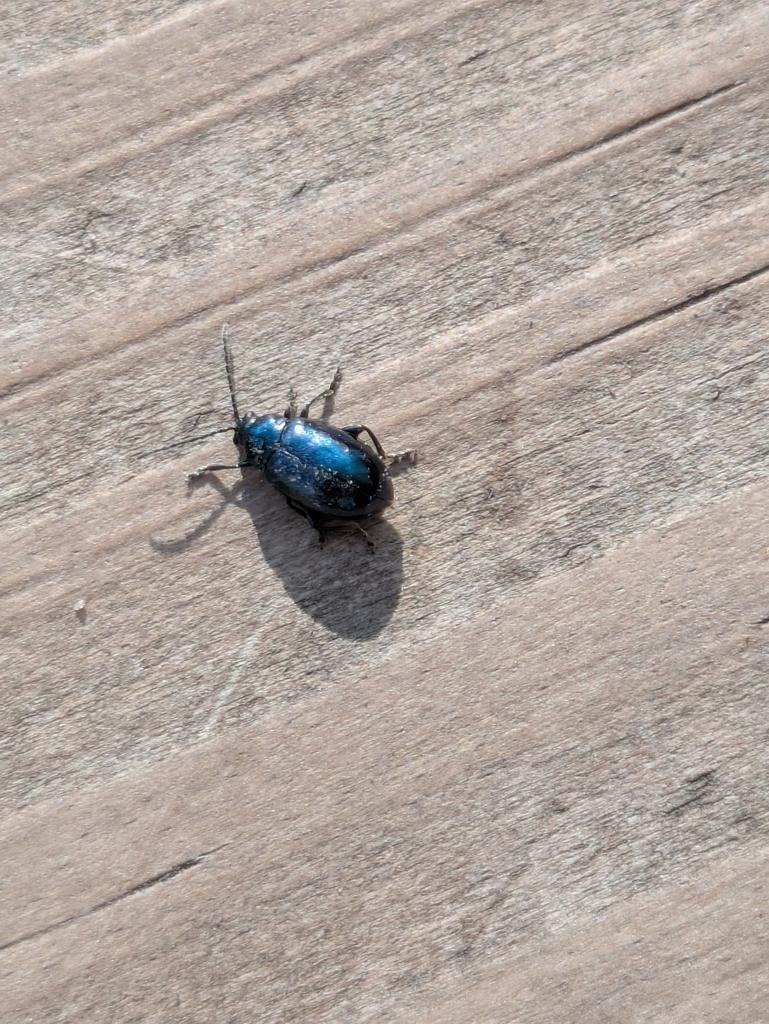flea_beetle: (104, 298, 474, 582)
